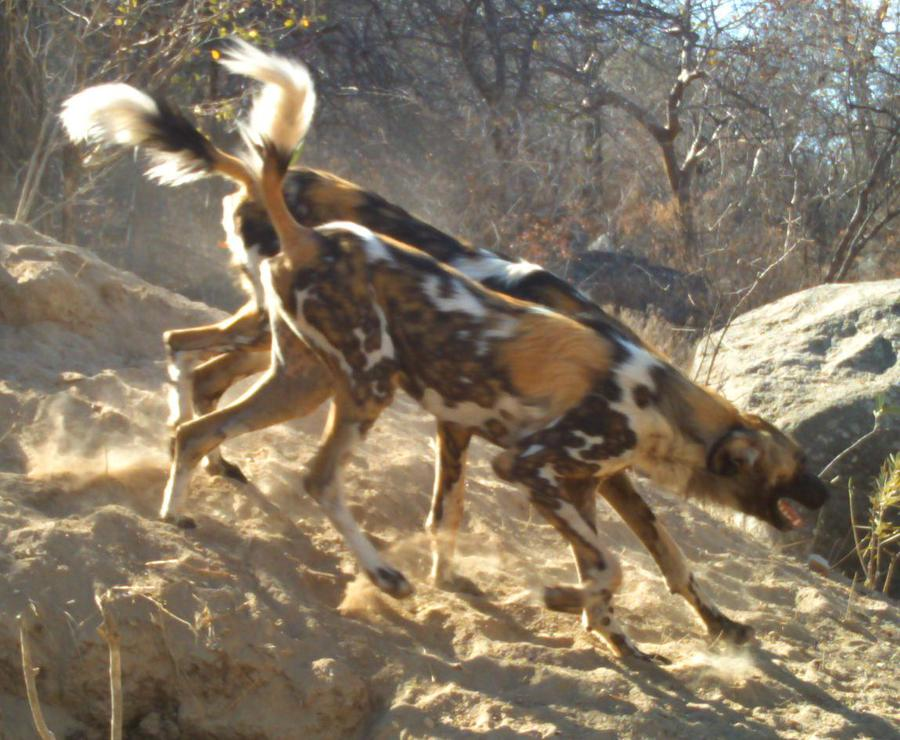wilddog: (162, 195, 840, 483)
